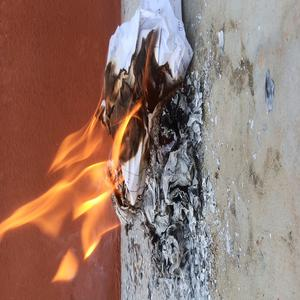fire: (2, 101, 128, 280)
